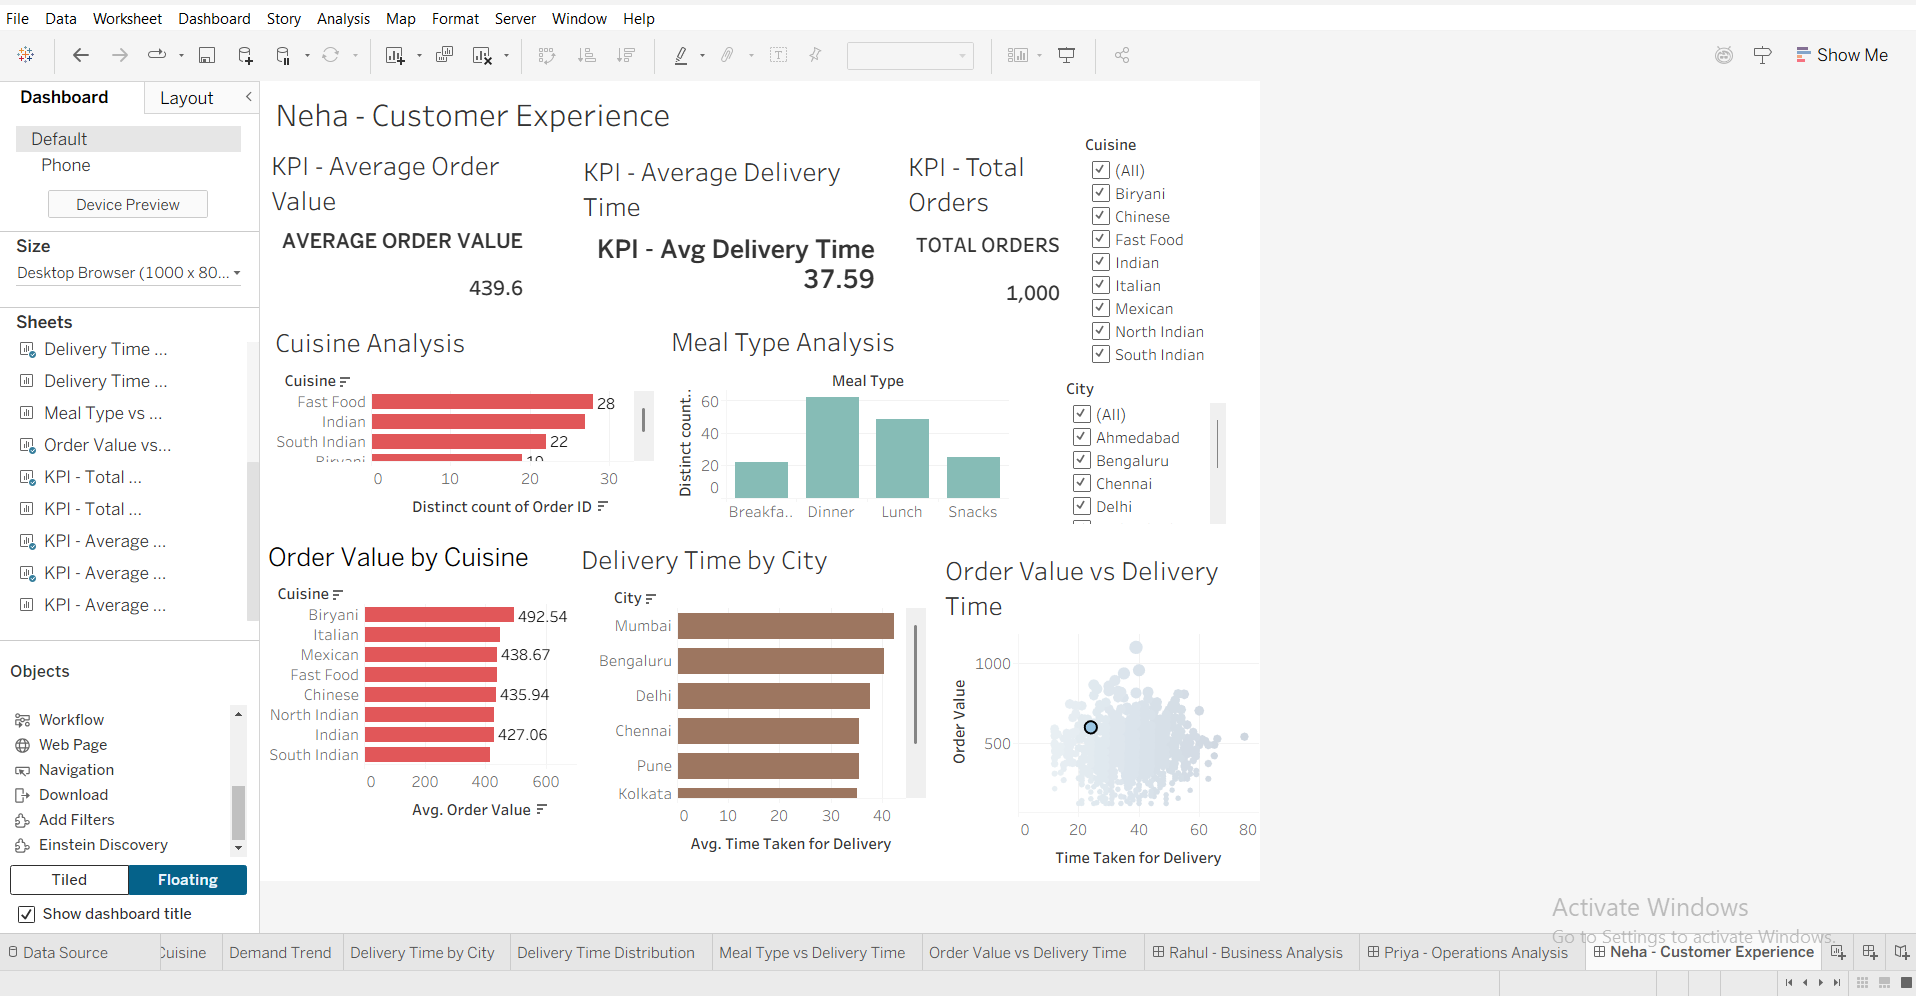

The dashboard page shown, as its layout file describes it:
{"tool":"tableau","page":{"name":"Neha - Customer Experience","canvas":[1000,800],"ordinal":0},"visuals":[{"type":"title","box":[8,8,984,50]},{"type":"filter","title":"Cuisine Analysis","param":"[federated.0koscx004ilo0c1ezlsu40xq7tde].[none:Cuisine:nk]","box":[825,53,160,235]},{"type":"worksheet","title":"KPI - Average Order Value","mark":"Automatic","box":[7,63,302,204]},{"type":"worksheet","title":"KPI - Total Orders","mark":"Automatic","box":[644,64,232,193]},{"type":"worksheet","title":"KPI - Average Delivery Time","mark":"Automatic","box":[319,69,333,180]},{"type":"worksheet","title":"Meal Type Analysis","mark":"Automatic","rows":["Order ID"],"cols":["Meal Type"],"box":[407,239,342,203]},{"type":"worksheet","title":"Cuisine Analysis","mark":"Automatic","rows":["Cuisine"],"cols":["Order ID"],"box":[11,240,383,203]},{"type":"filter","title":"Delivery Time by City","param":"[federated.0koscx004ilo0c1ezlsu40xq7tde].[none:City:nk]","box":[806,297,160,146]},{"type":"worksheet","title":"Order Value by Cuisine","mark":"Automatic","rows":["Cuisine"],"cols":["Order Value"],"box":[4,456,315,339]},{"type":"worksheet","title":"Delivery Time by City","mark":"Automatic","rows":["City"],"cols":["Time Taken for Delivery"],"box":[317,457,349,323]},{"type":"worksheet","title":"Order Value vs Delivery Time","mark":"Automatic","rows":["Order Value"],"cols":["Time Taken for Delivery"],"box":[681,468,318,326]}]}

Visuals, with their boxes on the page's 1000x800 design canvas (x1, y1, x2, y2). These are canvas units, not pixel positions in the 1916x996 screenshot, which may show the page scaled, cropped or inside an application window:
title: (x1=8, y1=8, x2=992, y2=58)
"Cuisine Analysis" filter: (x1=825, y1=53, x2=985, y2=288)
"KPI - Average Order Value" worksheet: (x1=7, y1=63, x2=309, y2=267)
"KPI - Total Orders" worksheet: (x1=644, y1=64, x2=876, y2=257)
"KPI - Average Delivery Time" worksheet: (x1=319, y1=69, x2=652, y2=249)
"Meal Type Analysis" worksheet: (x1=407, y1=239, x2=749, y2=442)
"Cuisine Analysis" worksheet: (x1=11, y1=240, x2=394, y2=443)
"Delivery Time by City" filter: (x1=806, y1=297, x2=966, y2=443)
"Order Value by Cuisine" worksheet: (x1=4, y1=456, x2=319, y2=795)
"Delivery Time by City" worksheet: (x1=317, y1=457, x2=666, y2=780)
"Order Value vs Delivery Time" worksheet: (x1=681, y1=468, x2=999, y2=794)
